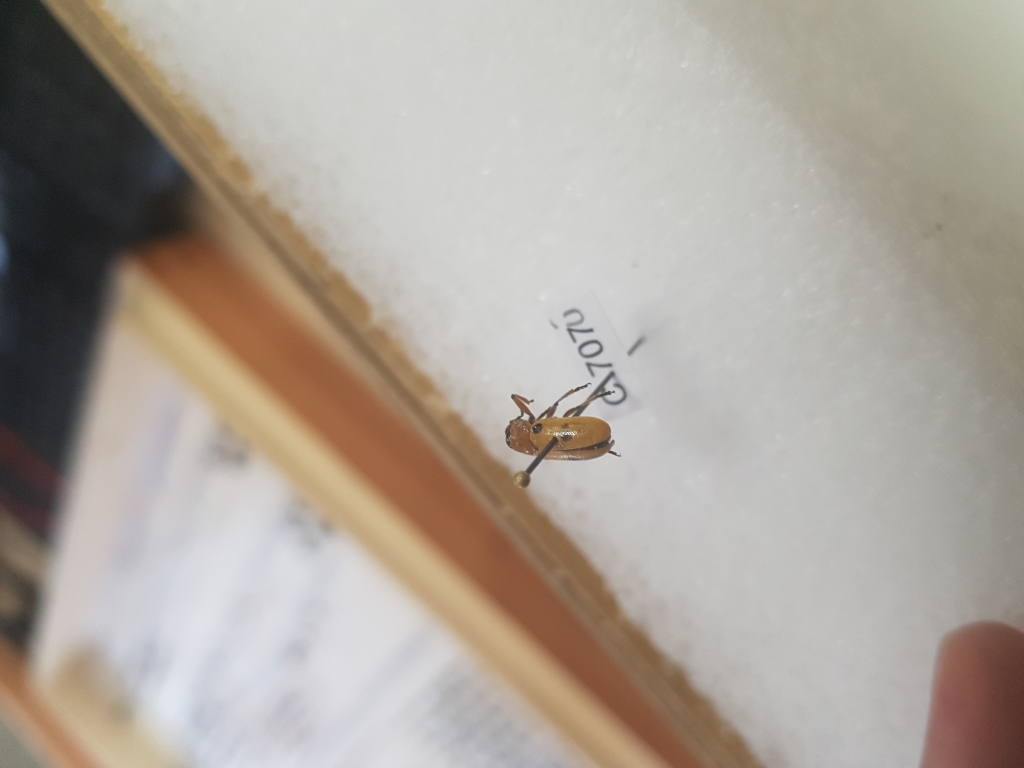Tituboea_macropus: (498, 381, 626, 464)
